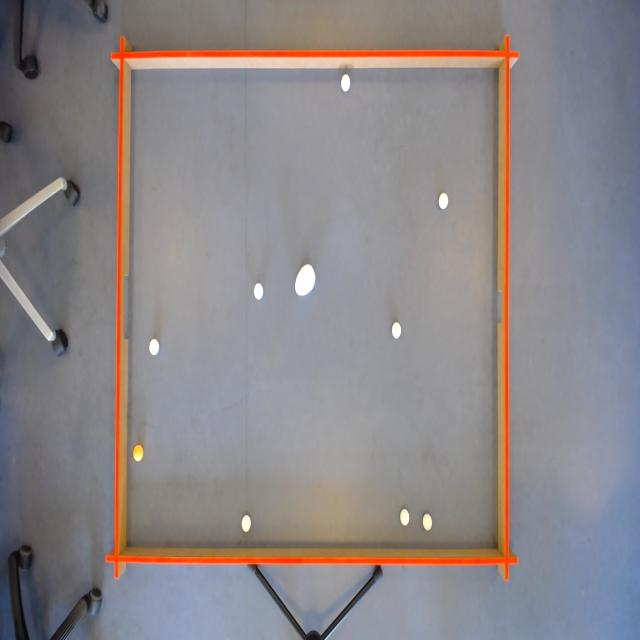egg: (294, 260, 316, 300)
orange_ball: (133, 442, 145, 466)
white_ball: (398, 506, 412, 530), (339, 70, 353, 94), (437, 190, 450, 214), (420, 512, 434, 532), (390, 320, 402, 342), (240, 512, 252, 534), (148, 336, 160, 358), (253, 280, 265, 300)
